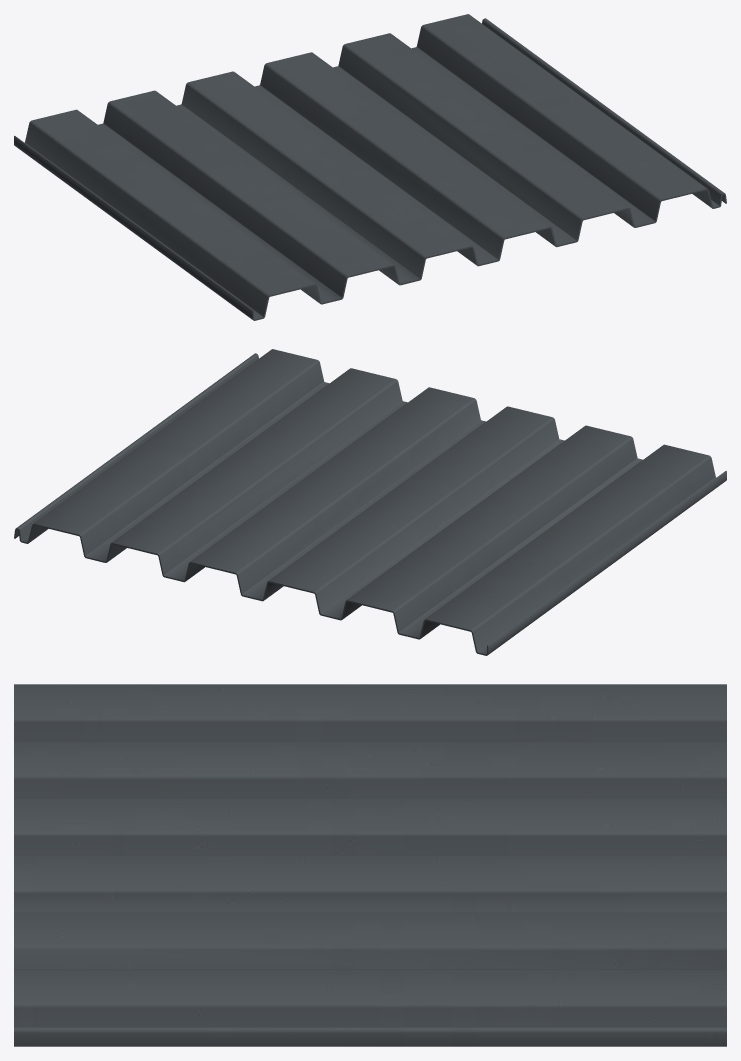
The model's file is B-Deck-RoofSmooth.glb.
The picture shows the model from 3 angles, top to bottom: view 1: azimuth 30°, elevation 25°; view 2: azimuth 150°, elevation 25°; view 3: azimuth 270°, elevation 25°; orthographic projection. The views are drawn at different scales.
Parts seen in each view (by area): view 1: Mesh_0; view 2: Mesh_0; view 3: Mesh_0.
Part boxes in pixels (x1,y1,x2,y2): Mesh_0: (14, 14, 726, 320); Mesh_0: (14, 349, 726, 655); Mesh_0: (14, 684, 726, 1046).
Bounding box in the file's own units: 0.1916 × 0.00847 × 0.167.
1 material, 1 textured.
